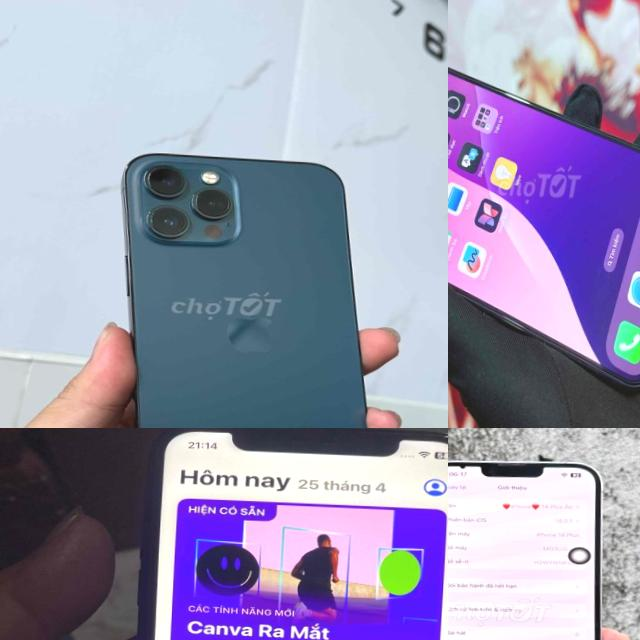gen_12_13: (98, 151, 394, 428)
gen_14: (448, 451, 627, 640)
gen_15: (448, 47, 640, 396)
gen_x_xs: (126, 428, 448, 640)
screen_defect: (452, 458, 482, 480)
